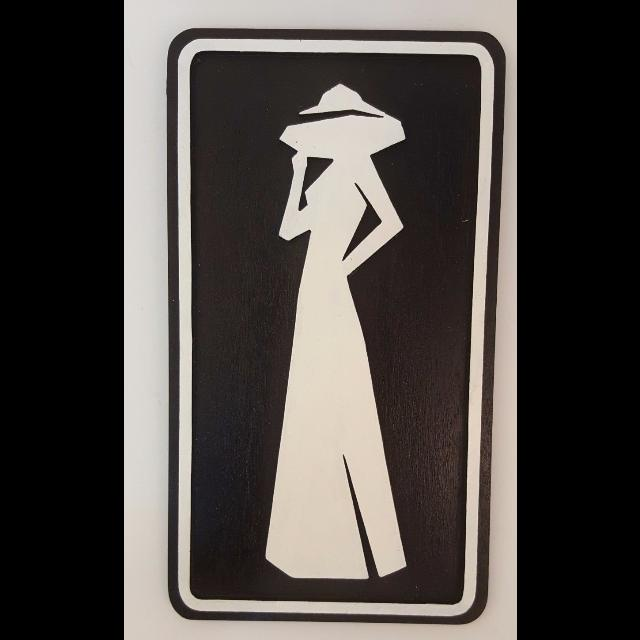womens_restroom: (165, 30, 504, 623)
